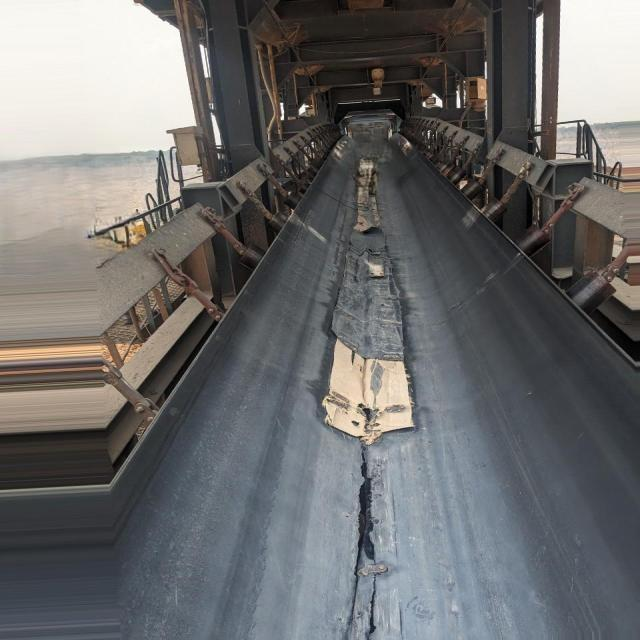Tear: (358, 436, 382, 640), (344, 564, 367, 631)
